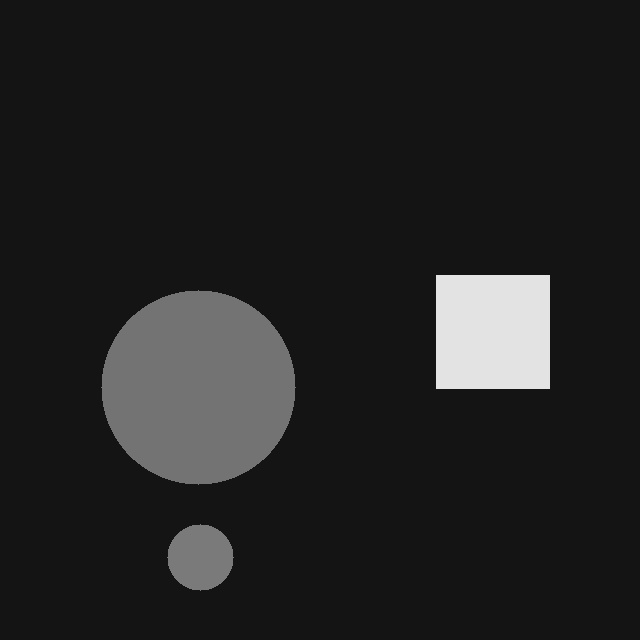circle: (101, 290, 295, 484), (167, 524, 233, 590)
square: (436, 275, 549, 388)
